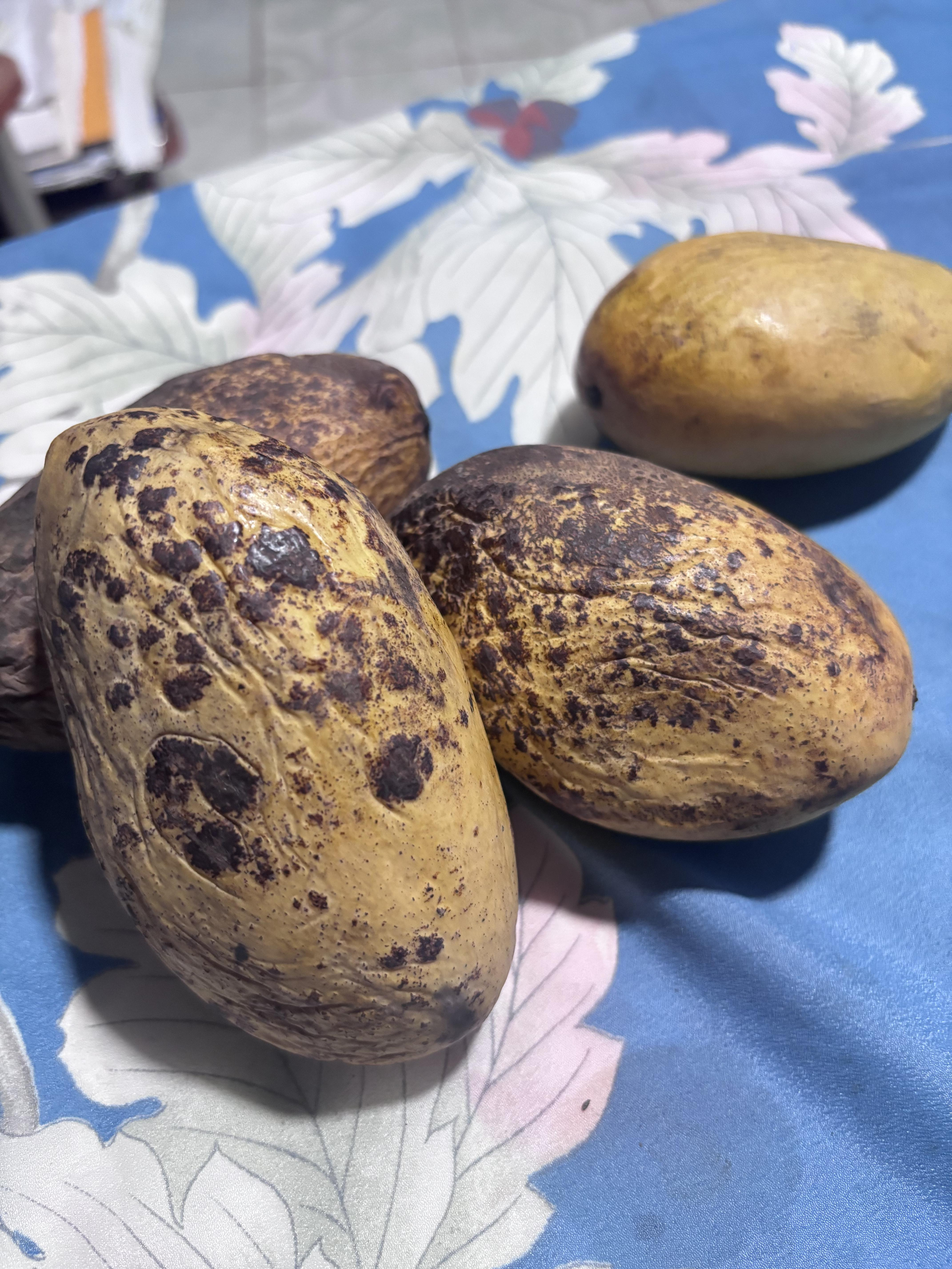mango: (36, 406, 517, 1063)
occluded: (394, 446, 913, 840), (577, 233, 952, 477)
